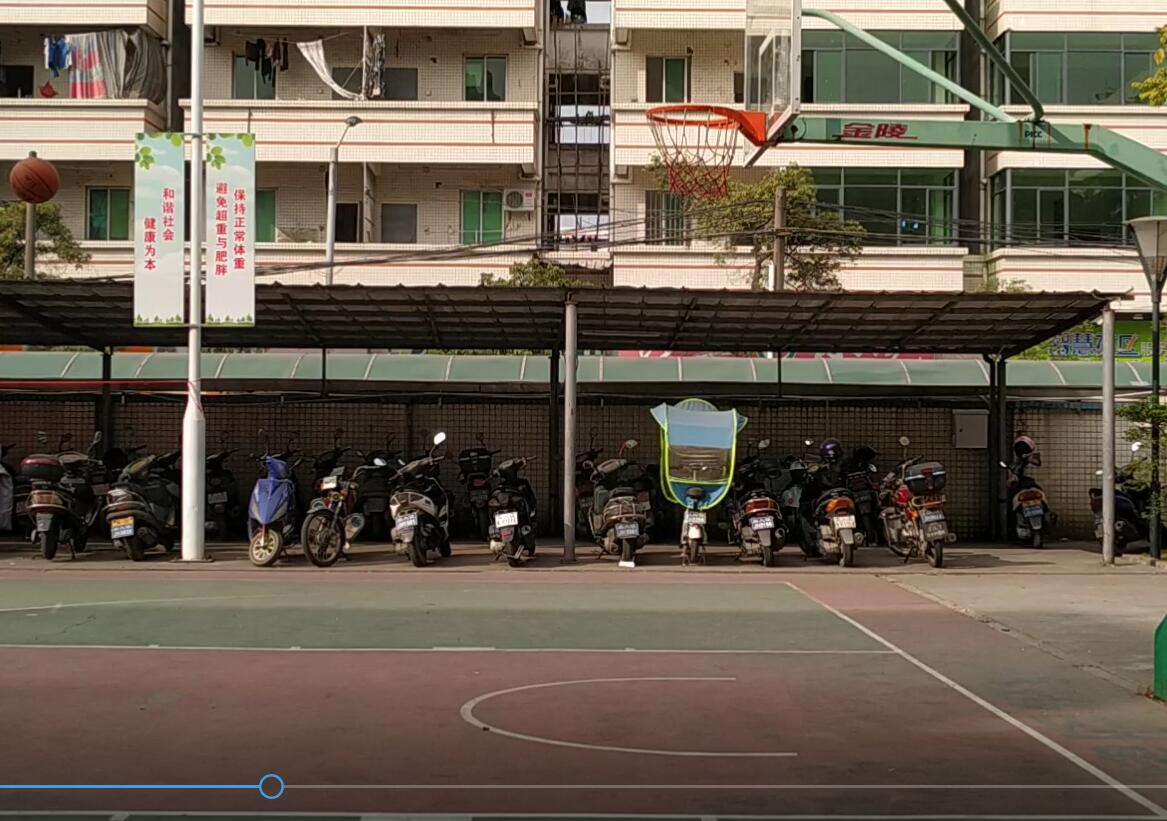basketball: (10, 152, 61, 206)
